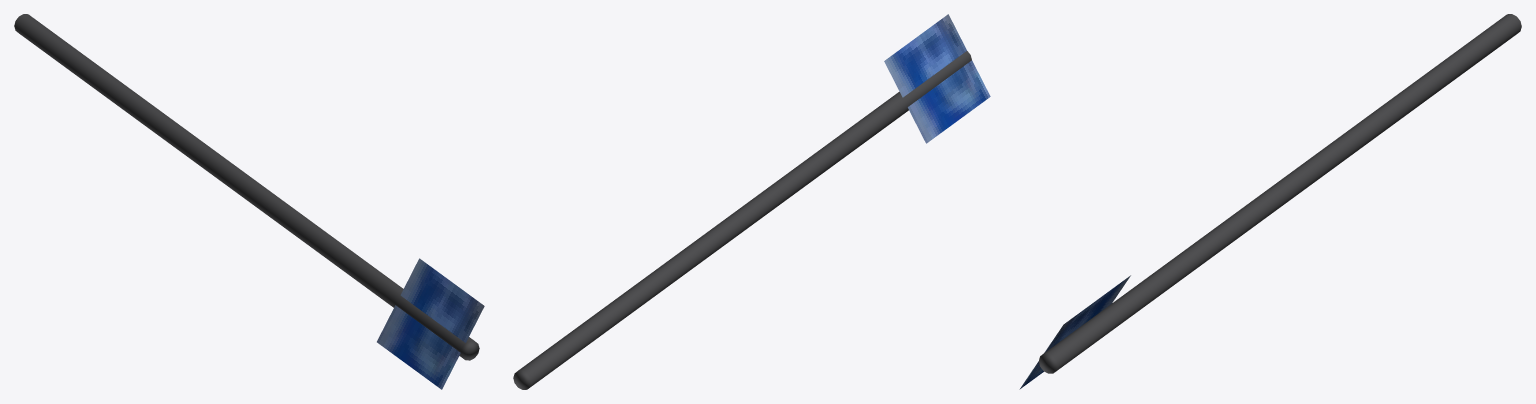
The model's file is sign_4.glb.
The picture shows the model from 3 angles, left to right: view 1: azimuth 30°, elevation 25°; view 2: azimuth 150°, elevation 25°; view 3: azimuth 330°, elevation 25°; orthographic projection. The views are drawn at different scales.
Visible parts, largest first — view 1: sign_4; view 2: sign_4; view 3: sign_4.
Part boxes in pixels (x1,y1,x2,y2): sign_4: [14, 14, 484, 389]; sign_4: [513, 14, 990, 389]; sign_4: [1019, 14, 1521, 389].
Bounding box in the file's own units: 0.00352 × 0.00578 × 0.0636.
2 materials, 1 textured.
